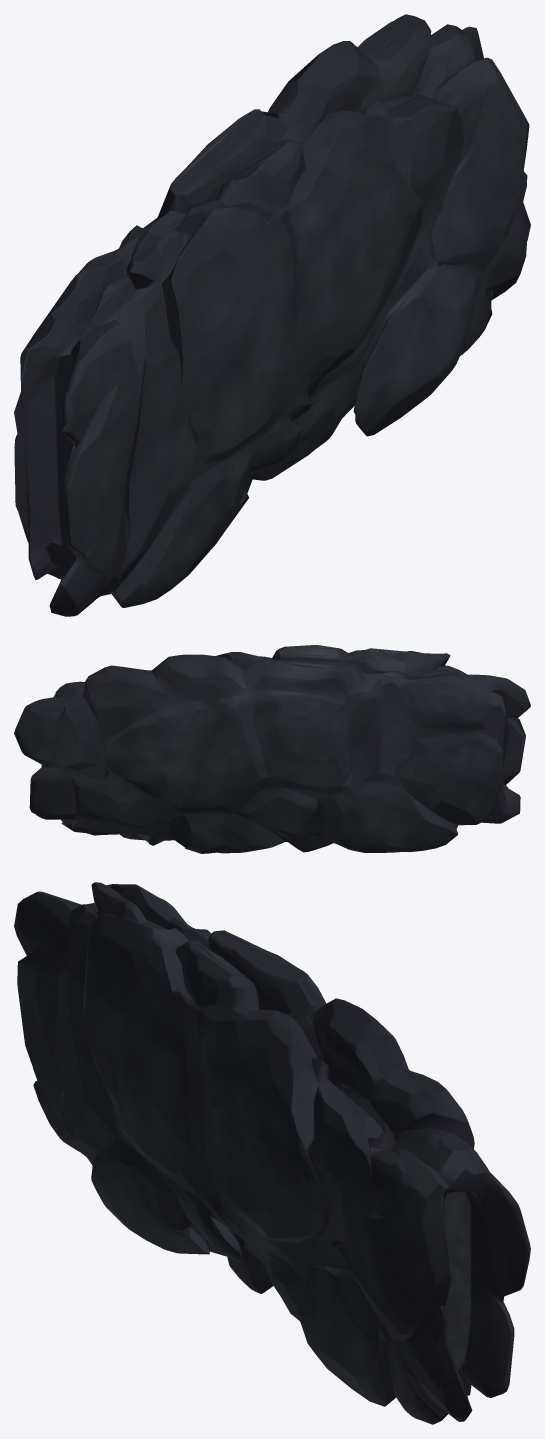
File: Wall_Text.fbx
The picture shows the model from 3 angles, top to bottom: view 1: azimuth 30°, elevation 25°; view 2: azimuth 150°, elevation 25°; view 3: azimuth 270°, elevation 25°; orthographic projection. The views are drawn at different scales.
Parts seen in each view (by area): view 1: Cube.019; view 2: Cube.019; view 3: Cube.019.
Part boxes in pixels (left/top/right/bottom): Cube.019: left=14, top=14, right=530, bottom=616; Cube.019: left=14, top=645, right=530, bottom=853; Cube.019: left=14, top=882, right=530, bottom=1424.
Size of the model in its own units: 1284 by 658 by 878.
